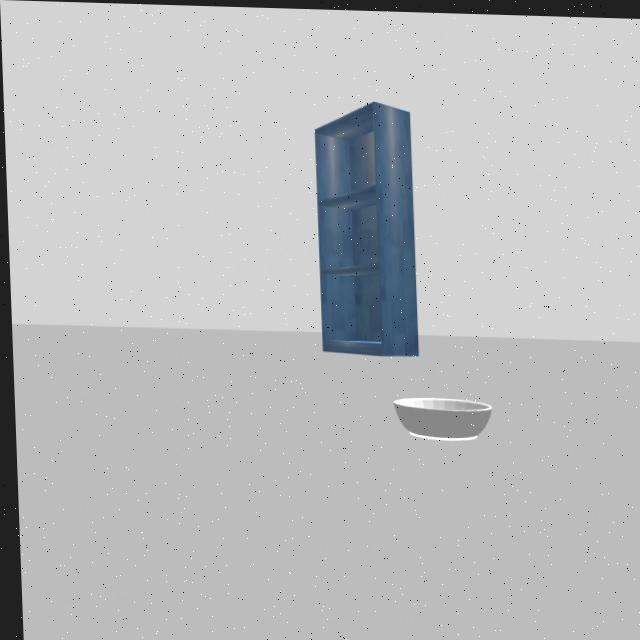bowl: (380, 381, 495, 451)
shelf: (304, 89, 423, 358)
